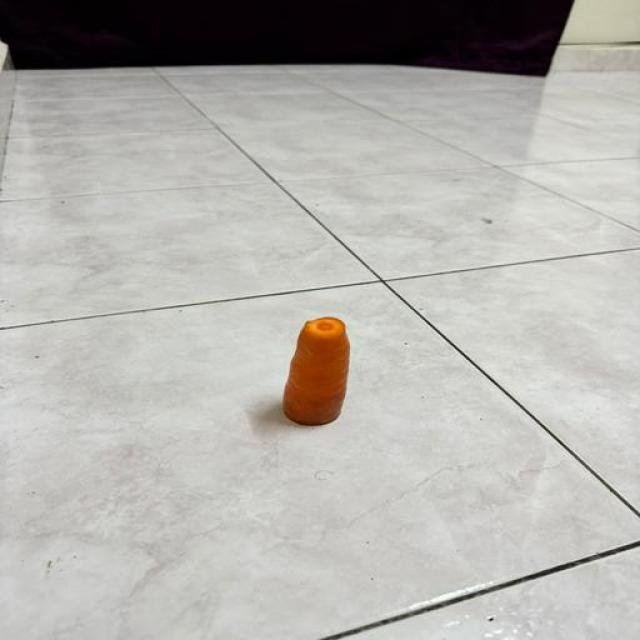organic: (283, 318, 349, 424)
